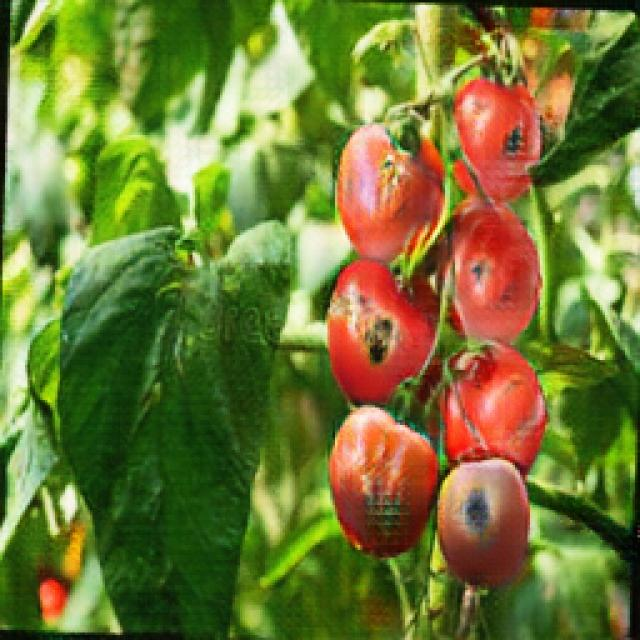overripe tomato: (330, 404, 442, 556), (332, 124, 450, 265), (328, 256, 439, 396), (448, 205, 543, 341), (444, 348, 540, 472), (438, 459, 536, 580), (447, 80, 534, 193)
